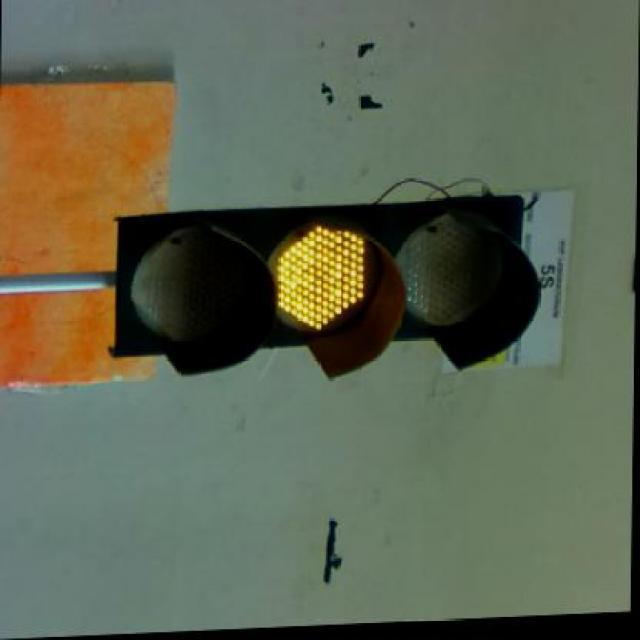yellow_light: (109, 179, 572, 377)
